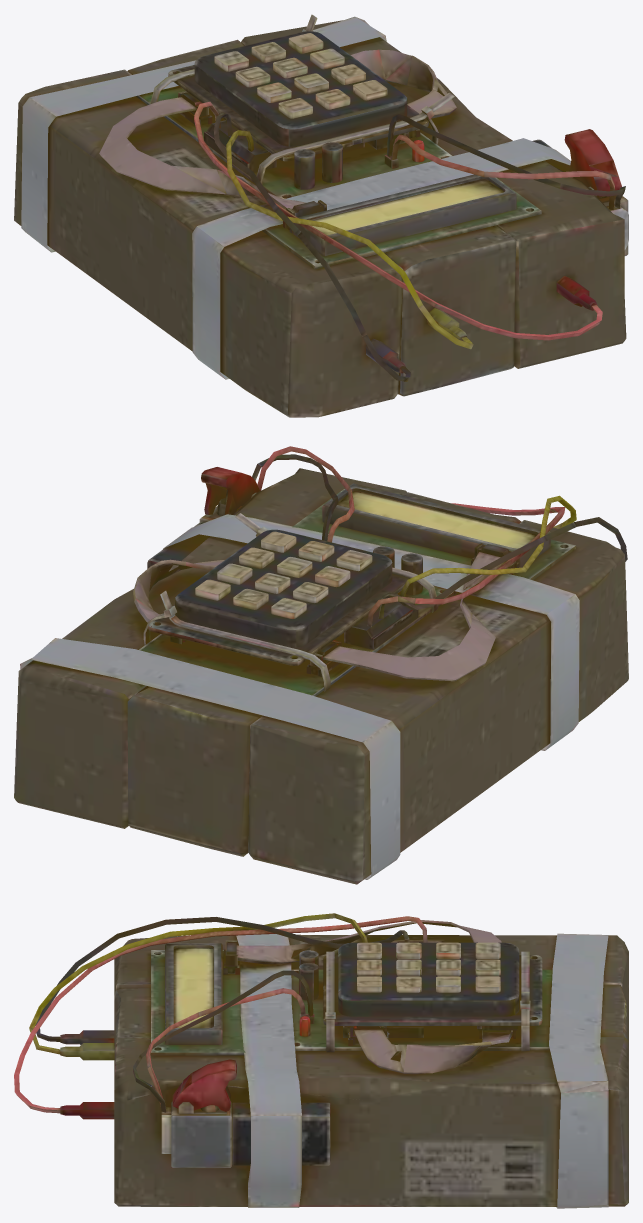
File: charge-c4.glb
3 renders of one model, top to bottom at view 1: azimuth 30°, elevation 25°; view 2: azimuth 150°, elevation 25°; view 3: azimuth 270°, elevation 25°, orthographic. The views are drawn at different scales.
Parts seen in each view (by area): view 1: models/weapons/w_eq_c4.001_materials/models/weapons/w_models; view 2: models/weapons/w_eq_c4.001_materials/models/weapons/w_models; view 3: models/weapons/w_eq_c4.001_materials/models/weapons/w_models.
Boxes of the visible parts, bbox=[...] form: models/weapons/w_eq_c4.001_materials/models/weapons/w_models: bbox=[14, 14, 628, 417]; models/weapons/w_eq_c4.001_materials/models/weapons/w_models: bbox=[14, 446, 628, 884]; models/weapons/w_eq_c4.001_materials/models/weapons/w_models: bbox=[14, 913, 628, 1208].
Bounding box in the file's own units: 7.16 × 3.52 × 10.81.
Materials: 1 (1 with a texture image).
